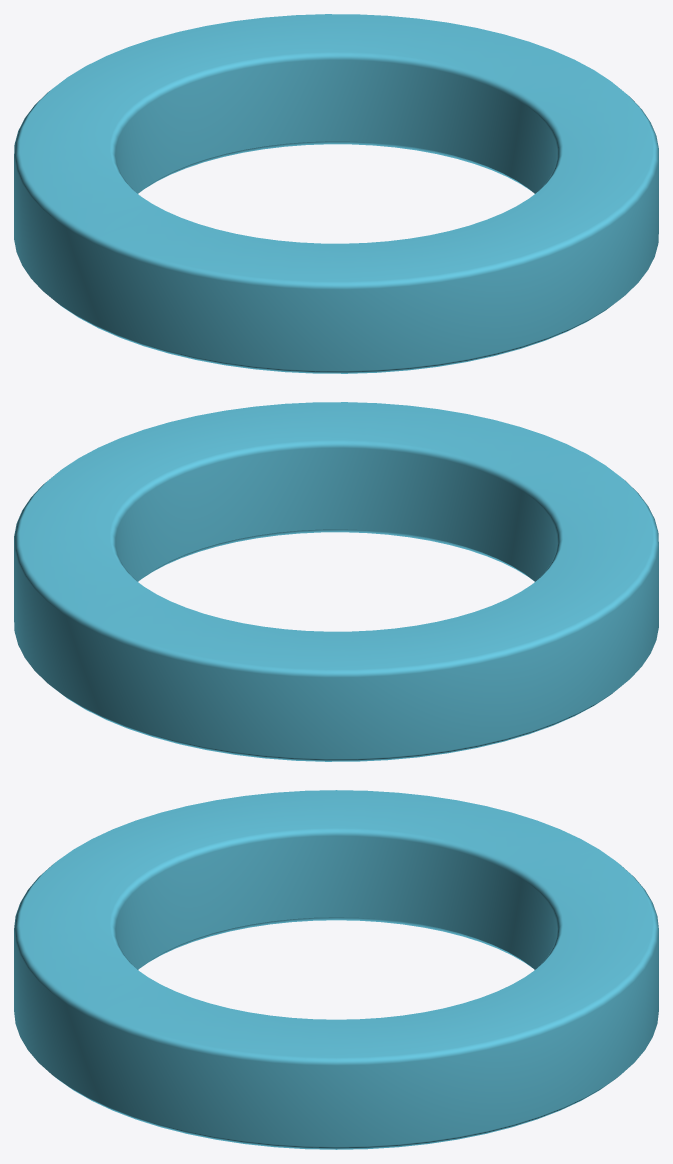
3 views of the same model, one above another, from view 1: azimuth 30°, elevation 25°; view 2: azimuth 150°, elevation 25°; view 3: azimuth 270°, elevation 25° (orthographic).
Parts seen in each view (by area): view 1: seal_body; view 2: seal_body; view 3: seal_body.
Boxes of the visible parts, <box> form: seal_body: <box>14,14,658,373</box>; seal_body: <box>14,402,658,761</box>; seal_body: <box>14,790,658,1149</box>.
Size of the model in its own units: 0.0603 by 0.00952 by 0.0603.
